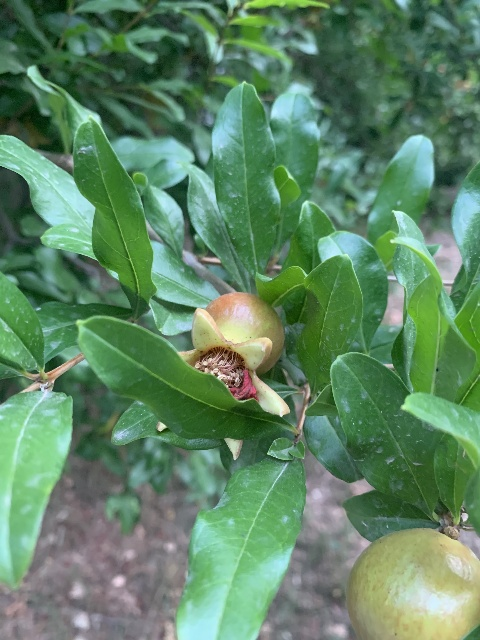early-fruit: (156, 290, 291, 460)
